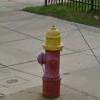Hydrant: (28, 10, 71, 100)
